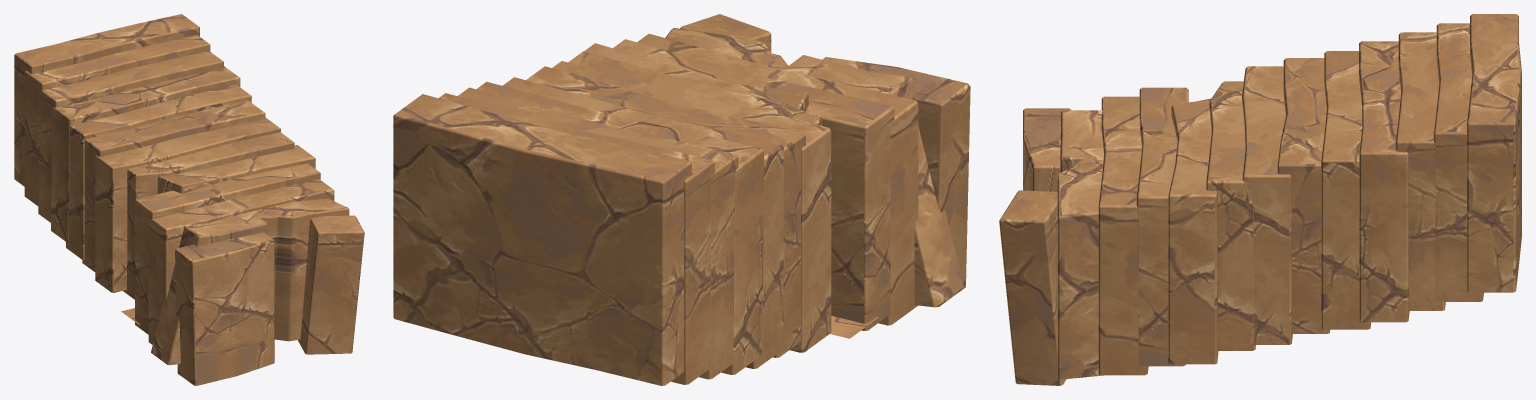
The model's file is Stair(small).fbx.
3 views of the same model, side by side, from view 1: azimuth 30°, elevation 25°; view 2: azimuth 150°, elevation 25°; view 3: azimuth 270°, elevation 25° (orthographic). The views are drawn at different scales.
Parts seen in each view (by area): view 1: Colonne.001; view 2: Colonne.001; view 3: Colonne.001.
Boxes of the visible parts, <box> form: Colonne.001: <box>14,14,364,385</box>; Colonne.001: <box>393,14,970,385</box>; Colonne.001: <box>999,14,1521,385</box>.
Bounding box in the file's own units: 1189 × 1213 × 2125.
